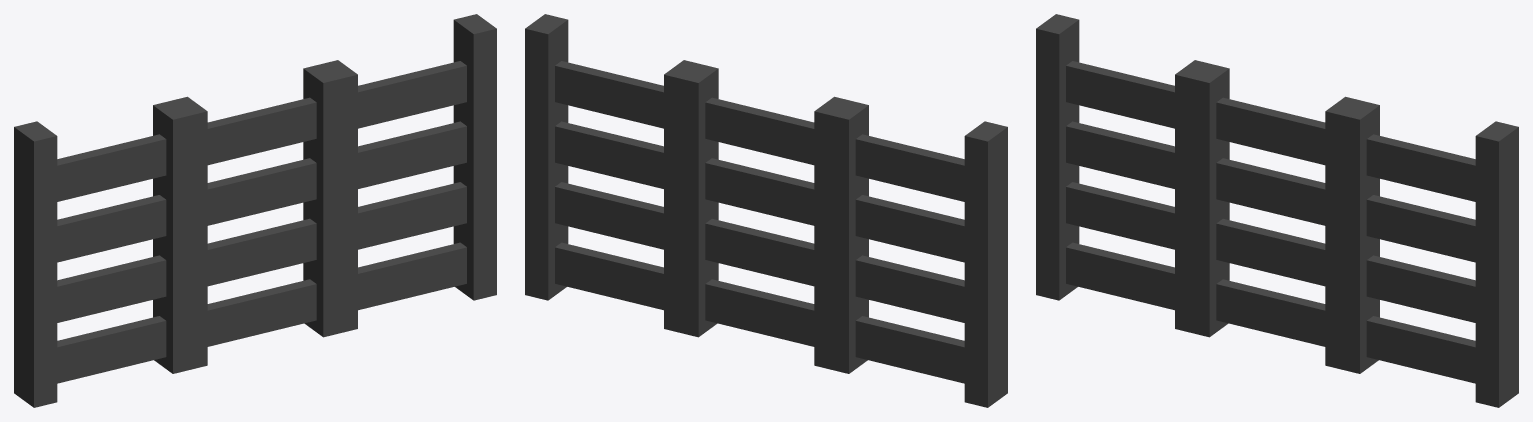
The model's file is border_fence.obj.
3 views of the same model, side by side, from view 1: azimuth 30°, elevation 25°; view 2: azimuth 150°, elevation 25°; view 3: azimuth 330°, elevation 25° (orthographic).
Size of the model in its own units: 4 by 2.2 by 0.3.
1 material, 1 textured.
